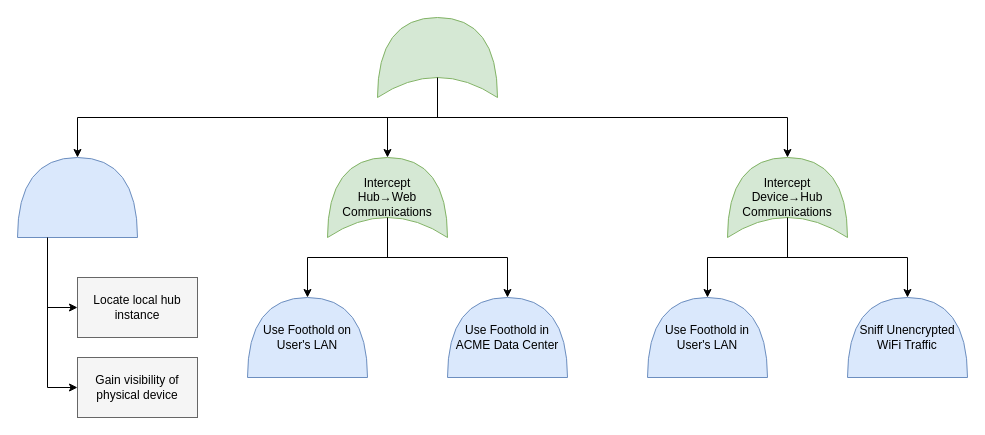
Image size: 985x435. Some labels were removed from this diagram. Each missing label, with the centre of its shape:
"Directly Observe Physical Device" belongs at (x=77, y=197).
"Disclose Device Status" belongs at (x=437, y=57).
